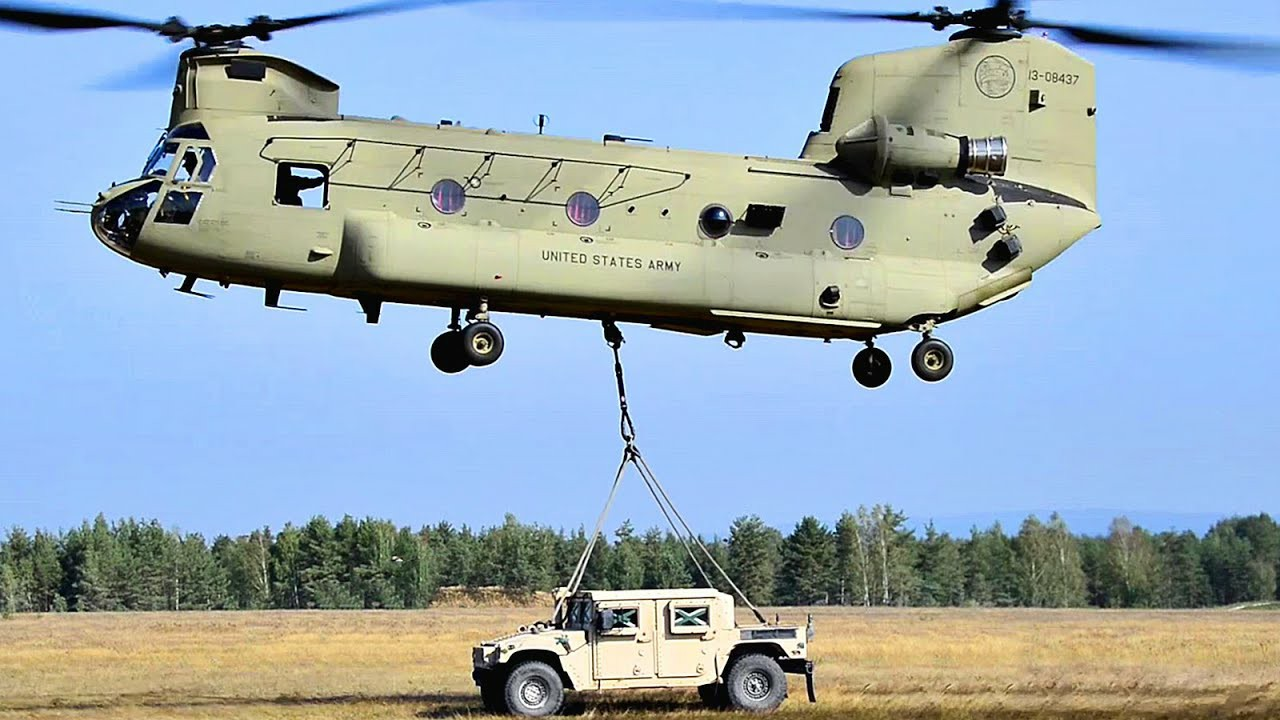HMMWV: (460, 537, 857, 714)
chinook: (67, 10, 1192, 392)
